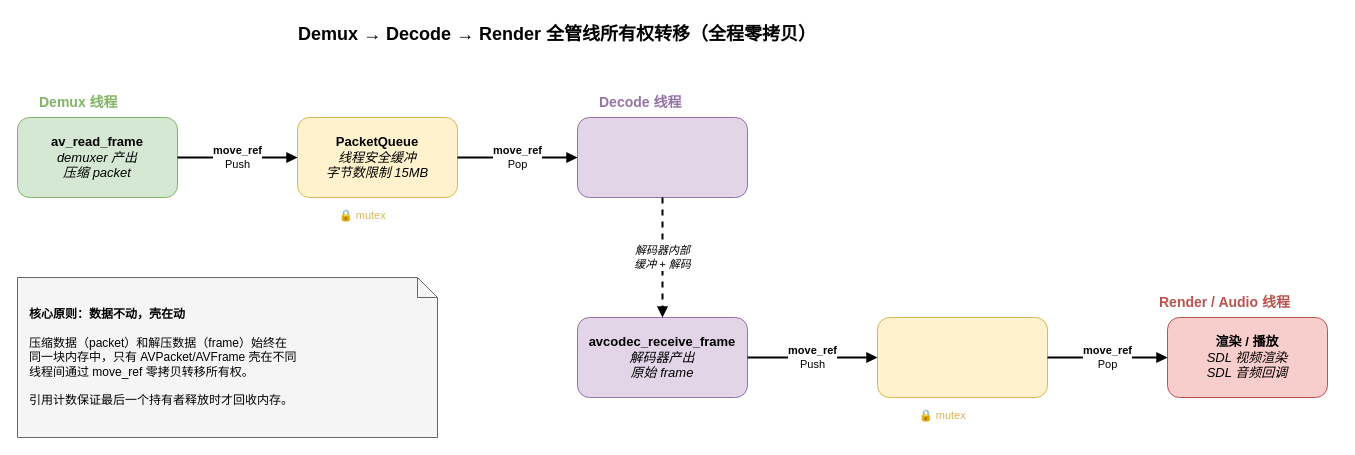
This 1355x455 diagram has some shape labels left out. Here are the shapes that lost their labels. From the top down, the centre of each, then its label:
the point at 662,157: avcodec_send_packet 解码器消费 压缩 packet
the point at 962,357: FrameQueue 线程安全缓冲 视频 3 帧 / 音频 9 帧
